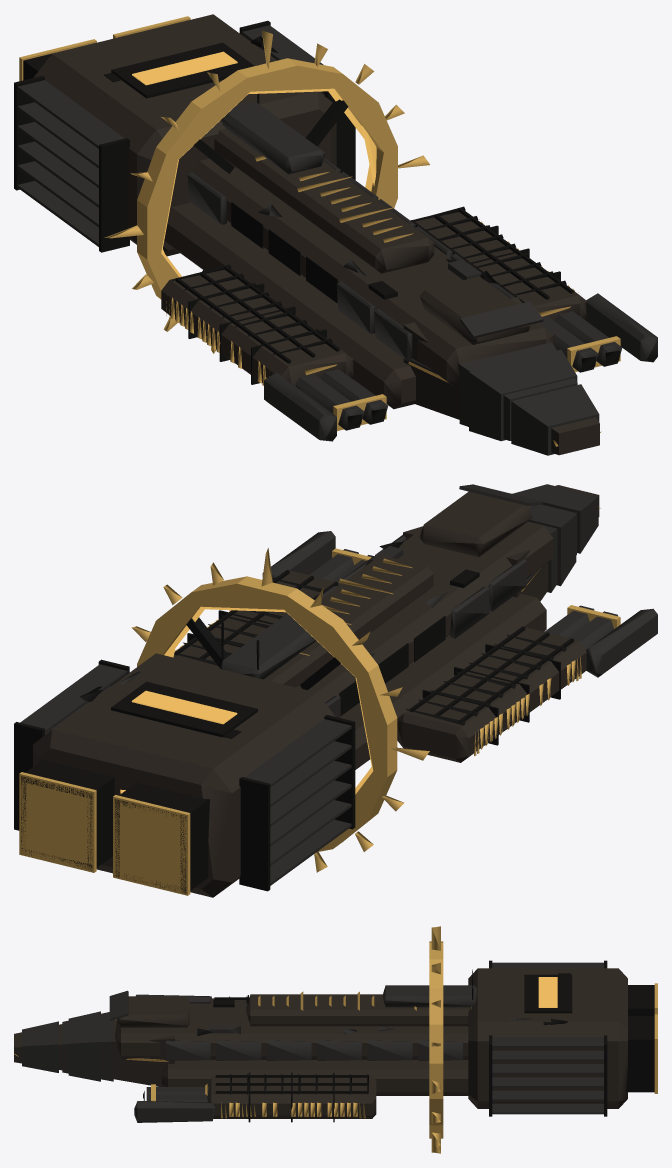
The model's file is goniec-wybudzeni-hawk-7-lod1.glb.
The picture shows the model from 3 angles, top to bottom: view 1: azimuth 30°, elevation 25°; view 2: azimuth 150°, elevation 25°; view 3: azimuth 270°, elevation 25°; orthographic projection. The views are drawn at different scales.
Size of the model in its own units: 5.74 by 5.4 by 13.95.
